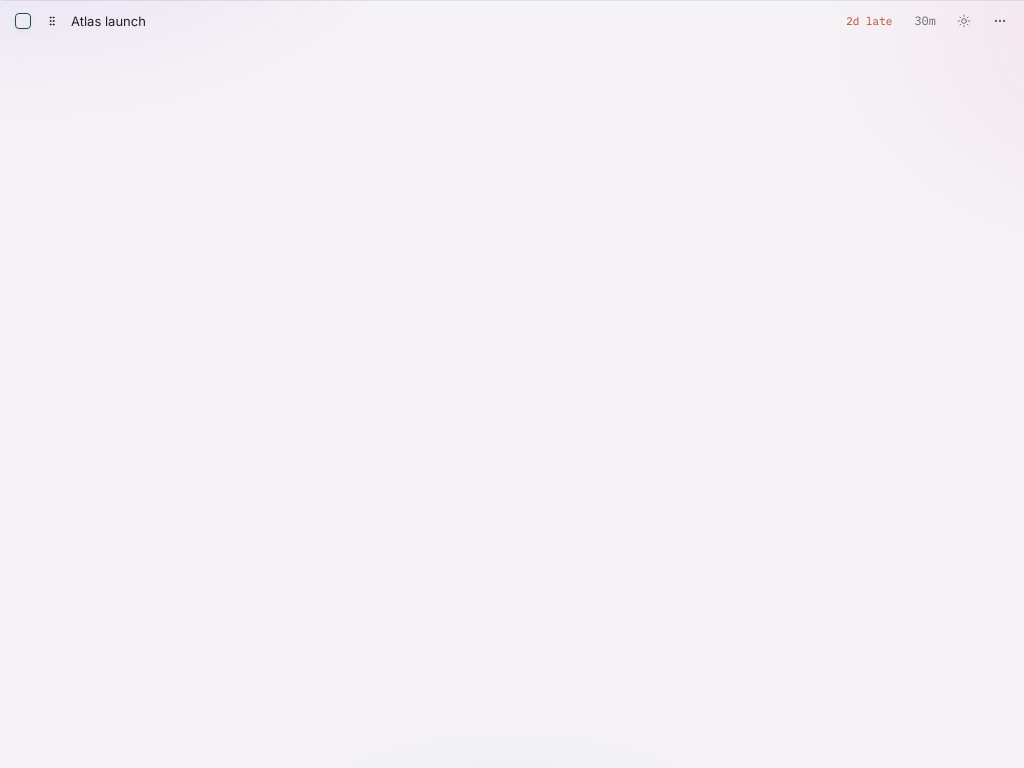
TaskRow — quiet row (chunk 71) › (2) a due date two days late: destructive chip that opens the due picker
Step 1. Click the button with aria-label "Due Sunday, October 11 — edit due date" → (869, 21), box [840,9,898,33]
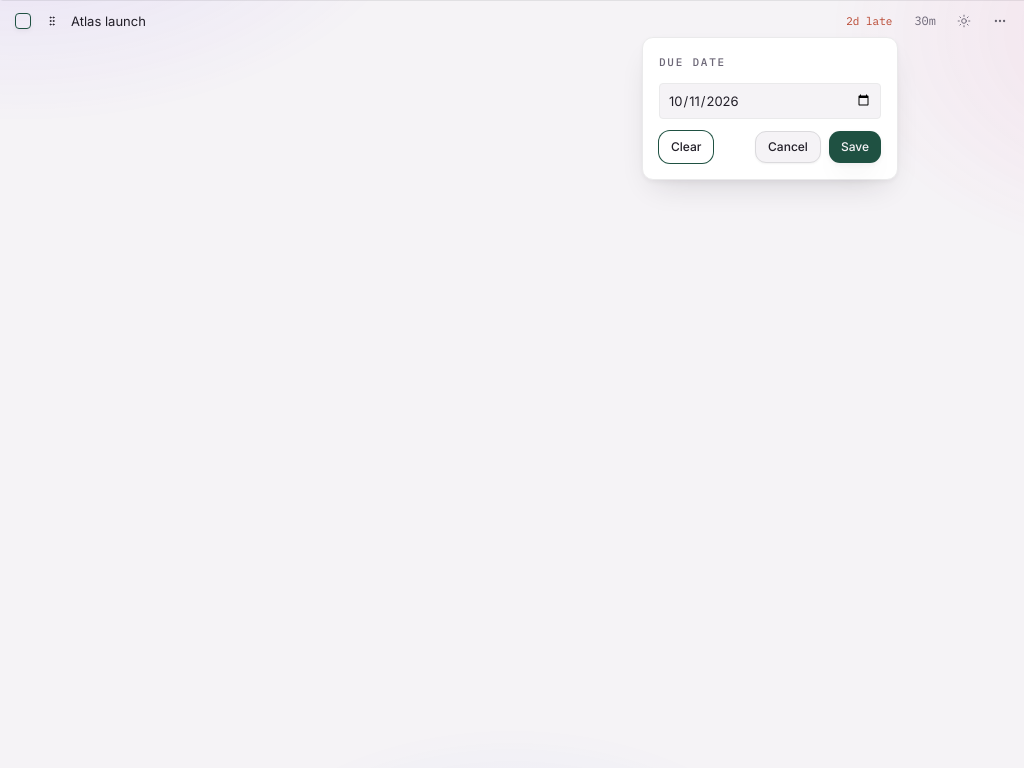
Now the date field named "Due date" is shown, box [659,82,881,118]
